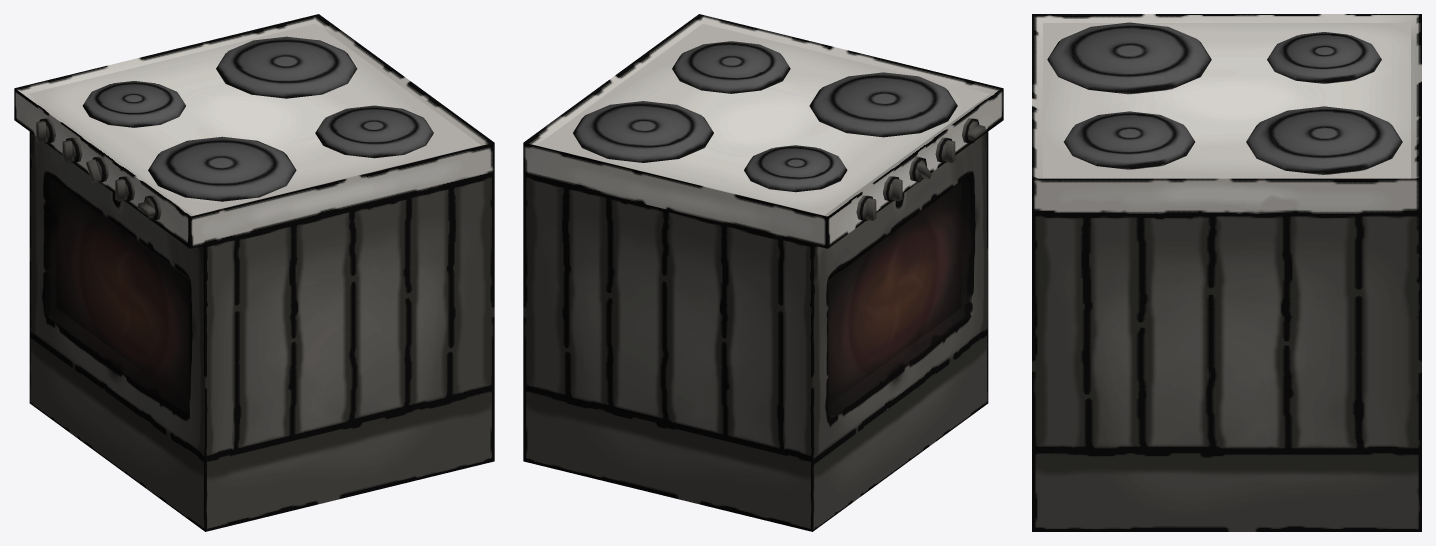
Rendered from Stove.fbx.
3 views of the same model, side by side, from view 1: azimuth 30°, elevation 25°; view 2: azimuth 150°, elevation 25°; view 3: azimuth 270°, elevation 25° (orthographic). The views are drawn at different scales.
Parts seen in each view (by area): view 1: Counter.001, Counter.002; view 2: Counter.001, Counter.002; view 3: Counter.001.
Part boxes in pixels (left/top/right/bottom): Counter.001: left=14, top=14, right=494, bottom=531; Counter.002: left=29, top=132, right=235, bottom=460; Counter.001: left=523, top=14, right=1003, bottom=531; Counter.002: left=782, top=132, right=988, bottom=460; Counter.001: left=1032, top=14, right=1421, bottom=531.
Size of the model in its own units: 104 by 101 by 100.
